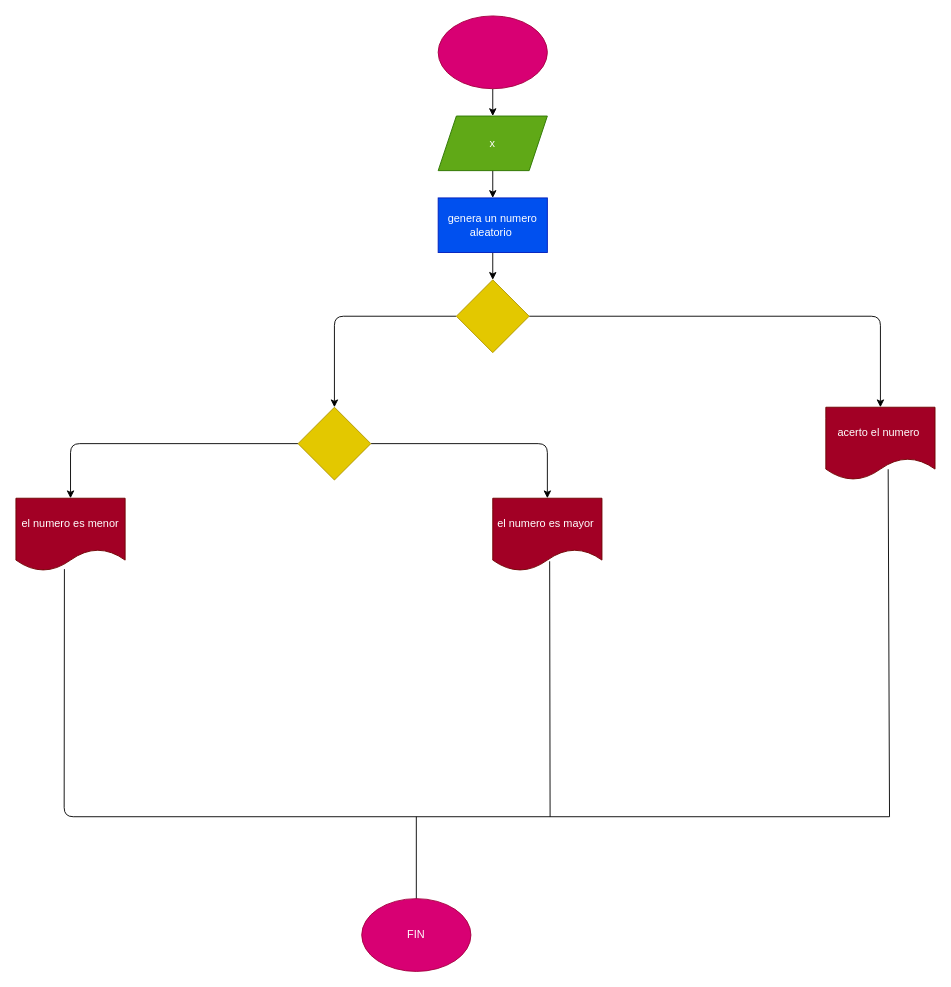
The diagram is 951 pixels wide and 987 high, and some of its shapes have lost their labels. Here are the shapes that lost their labels. From the top down, the box of each, then its label:
(437, 15, 547, 89): inicio
(455, 279, 529, 353): x==numero generado
(297, 406, 371, 480): x<numero generado
